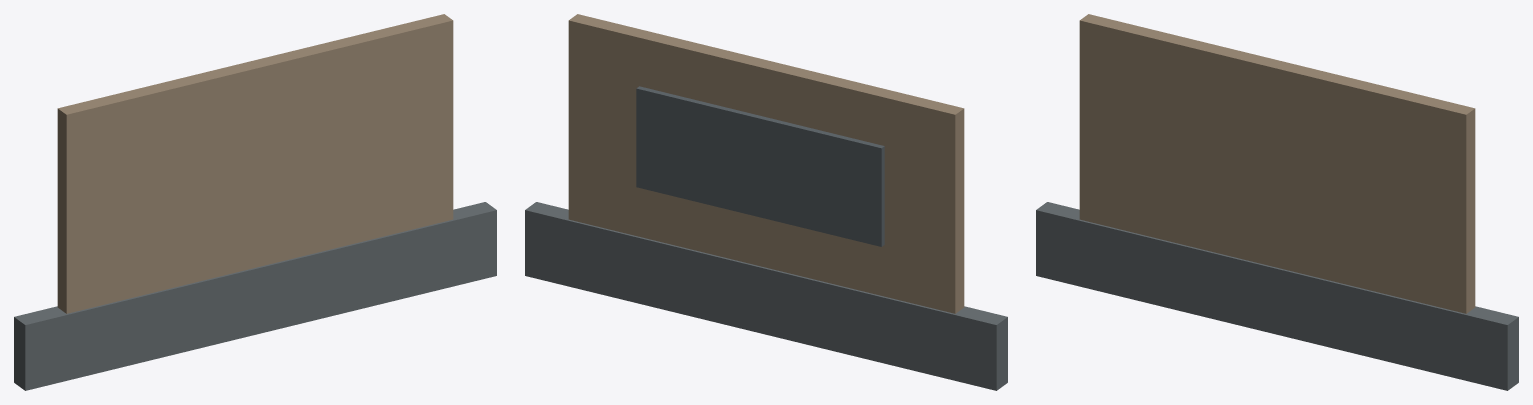
File: iz3_build_defense_wire_02.glb
3 views of the same model, side by side, from view 1: azimuth 30°, elevation 25°; view 2: azimuth 150°, elevation 25°; view 3: azimuth 330°, elevation 25° (orthographic).
Visible parts, largest first — view 1: cabinet, base; view 2: cabinet, base, panel; view 3: cabinet, base.
Part boxes in pixels (bbox=[...]): cabinet: bbox=[57, 14, 453, 313]; base: bbox=[14, 202, 496, 390]; cabinet: bbox=[568, 14, 964, 313]; base: bbox=[525, 202, 1007, 390]; panel: bbox=[636, 86, 884, 246]; cabinet: bbox=[1079, 14, 1475, 313]; base: bbox=[1036, 202, 1518, 390].
Size of the model in its own units: 2.4 by 1.29 by 0.116.
